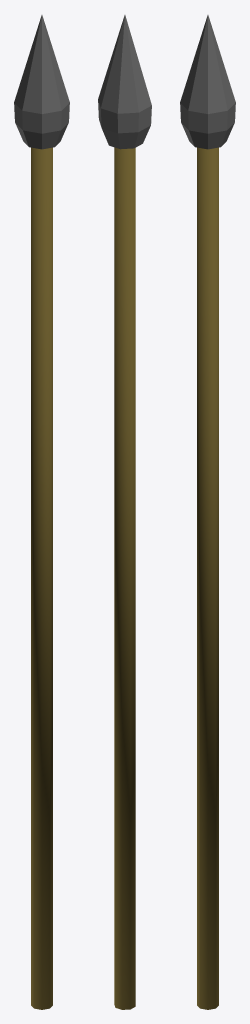
File: Spear.gltf
3 renders of one model, left to right at view 1: azimuth 90°, elevation 25°; view 2: azimuth 210°, elevation 25°; view 3: azimuth 270°, elevation 25°, orthographic.
Visible parts, largest first — view 1: Cylinder, Cone; view 2: Cylinder, Cone; view 3: Cylinder, Cone.
Boxes of the visible parts, x1,y1,x2,y2 form: Cylinder: (31, 147, 52, 1009); Cone: (14, 15, 69, 149); Cylinder: (114, 147, 135, 1009); Cone: (98, 15, 151, 149); Cylinder: (197, 147, 218, 1009); Cone: (180, 15, 235, 149).
Size of the model in its own units: 0.0708 by 1.39 by 0.0708.
